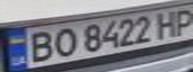2: (133, 12, 157, 44), (115, 16, 139, 47)
4: (100, 18, 121, 50)
8: (78, 21, 103, 53)
B: (21, 28, 57, 64)
H: (151, 8, 184, 38)
O: (48, 25, 81, 57)
P: (169, 6, 193, 36)
